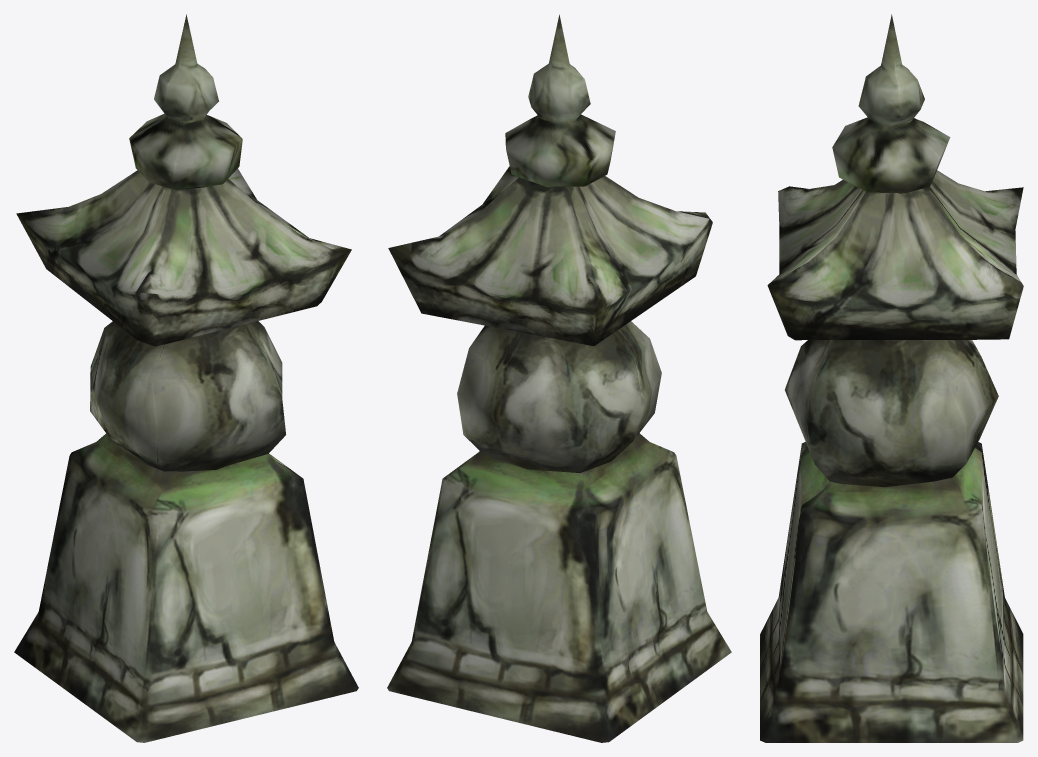
The model's file is DEC_GravestoneD.FBX.
The picture shows the model from 3 angles, left to right: view 1: azimuth 30°, elevation 25°; view 2: azimuth 150°, elevation 25°; view 3: azimuth 270°, elevation 25°; orthographic projection. The views are drawn at different scales.
Visible parts, largest first — view 1: DEC_GravestoneD; view 2: DEC_GravestoneD; view 3: DEC_GravestoneD.
Part boxes in pixels (left/top/right/bottom): DEC_GravestoneD: left=14, top=14, right=358, bottom=742; DEC_GravestoneD: left=387, top=14, right=731, bottom=742; DEC_GravestoneD: left=760, top=14, right=1023, bottom=742.
Size of the model in its own units: 72.07 by 203 by 72.19.
